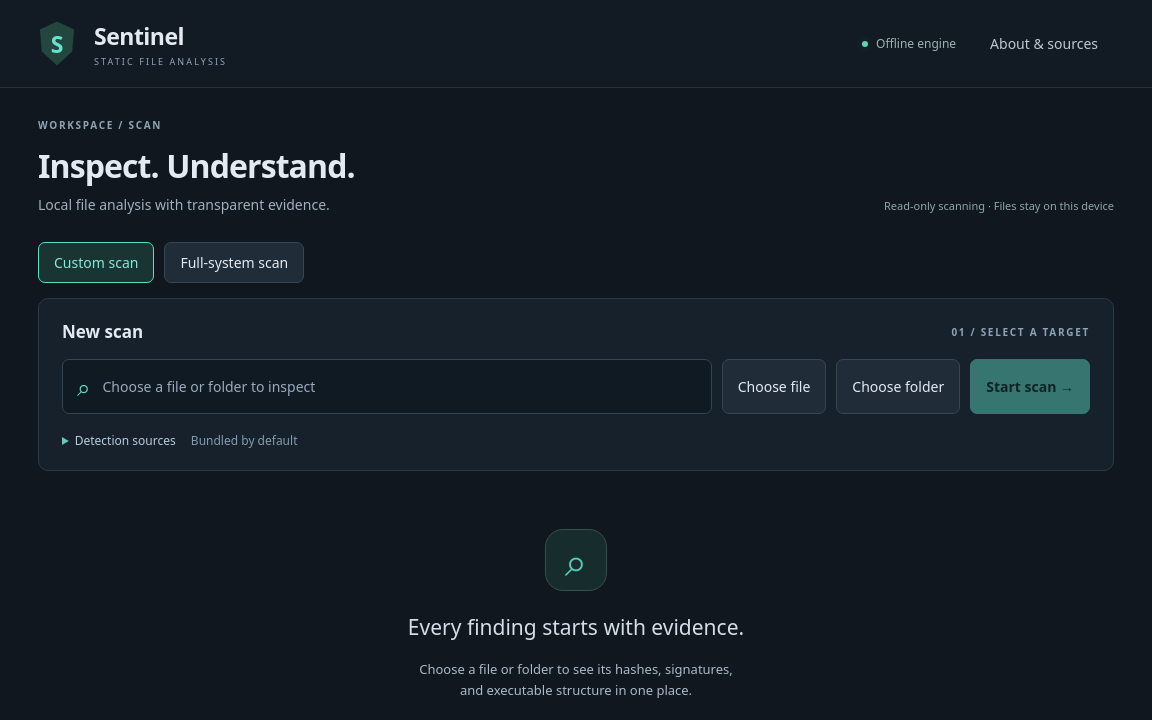
desktop scan workflow › shows an empty folder without presenting it as proof of safety
What coordinates should you click on to do the following:
click the button "Choose folder"
I would click on:
 (898, 387)
Its box is 836,359 -> 960,414.
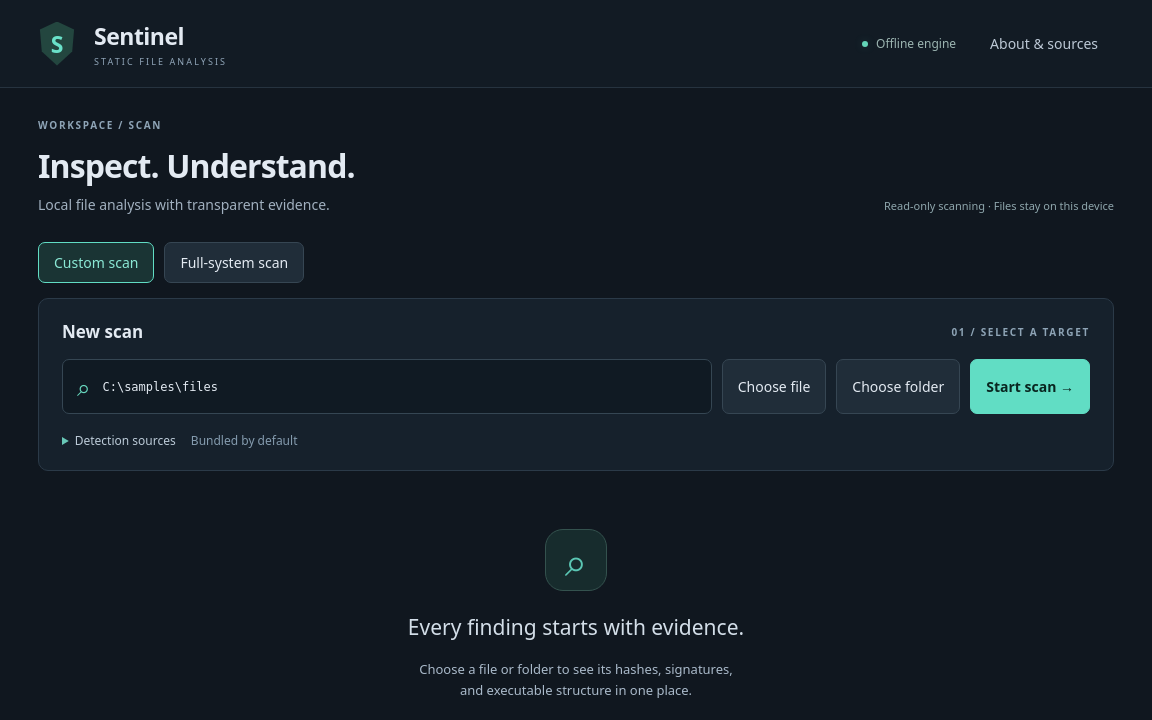
What coordinates should you click on to do the following:
click the button "Start scan →"
I would click on:
 (1030, 387)
Its box is 970,359 -> 1090,414.
(page scrolled)
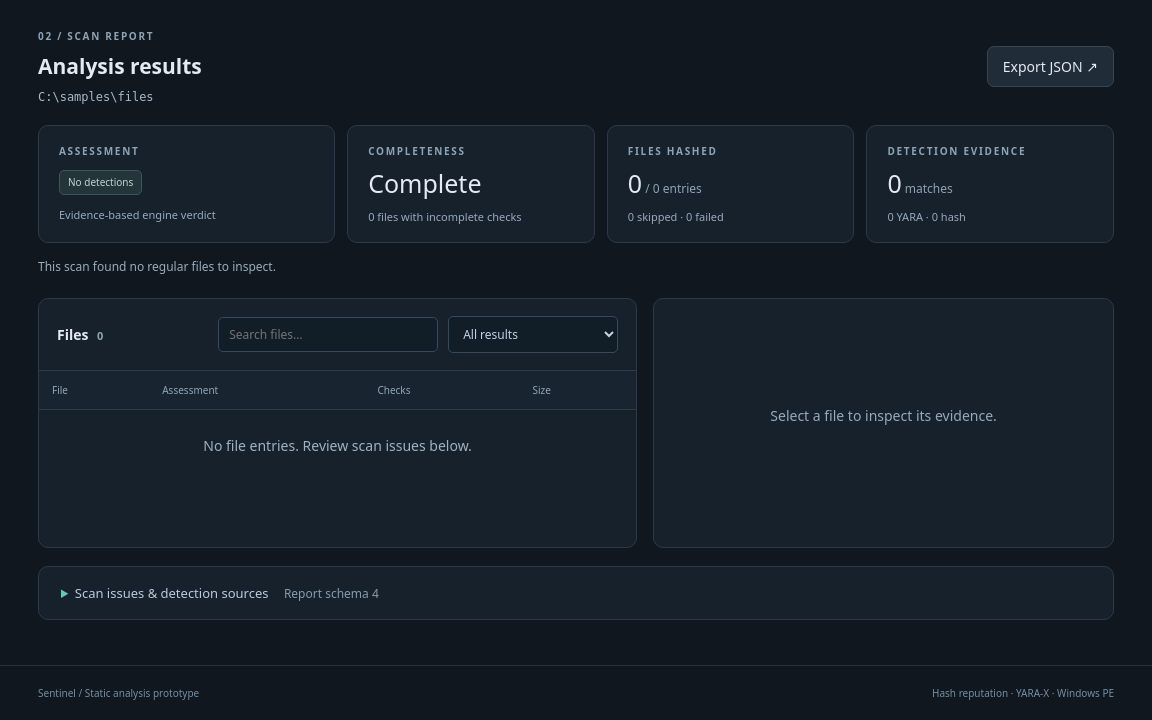
expect the heading "Analysis results" is shown: met, box 38,52 -> 202,80
expect the text "This scan found no regular files to inspect." is shown: met, box 38,258 -> 276,275
expect the text "No file entries. Review scan issues below." is shown: met, box 203,436 -> 472,456
